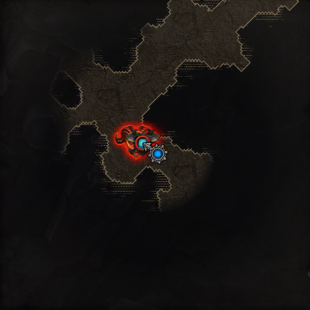Guardian: (114, 125, 159, 159)
